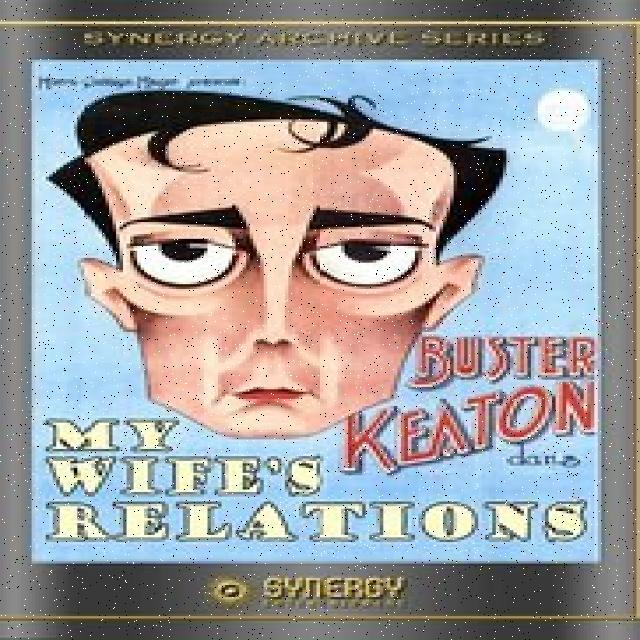movie-judul: (36, 402, 606, 556)
picture: (49, 92, 536, 457)
